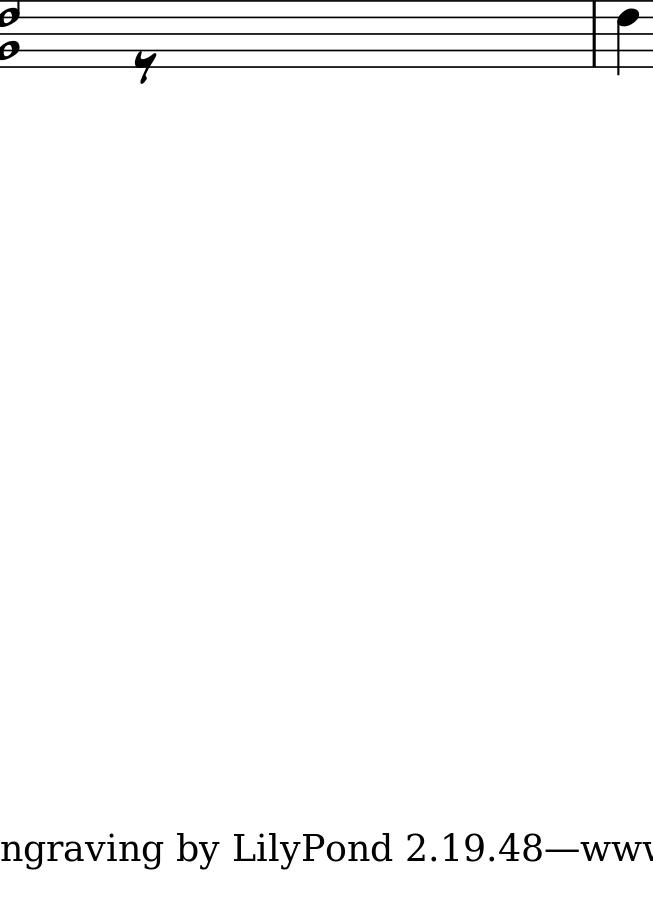4_6: (616, 1, 641, 73)
Rests8: (132, 48, 160, 84)
Single_barline: (585, 1, 602, 68)
